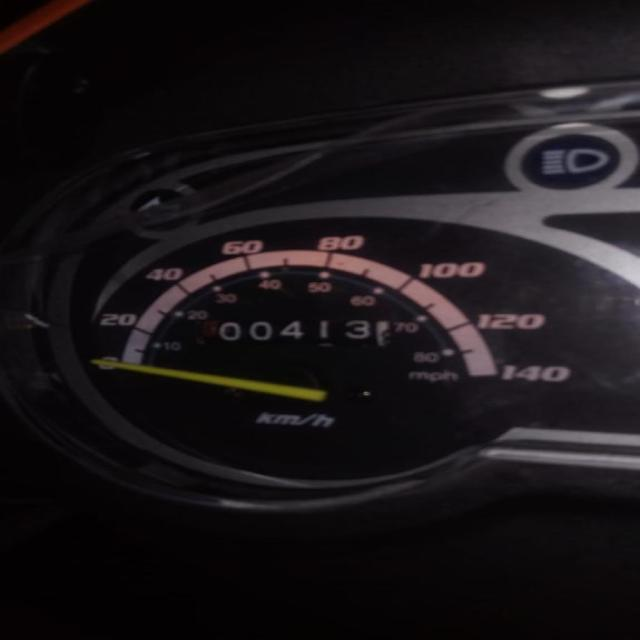odometer: (197, 317, 394, 348)
